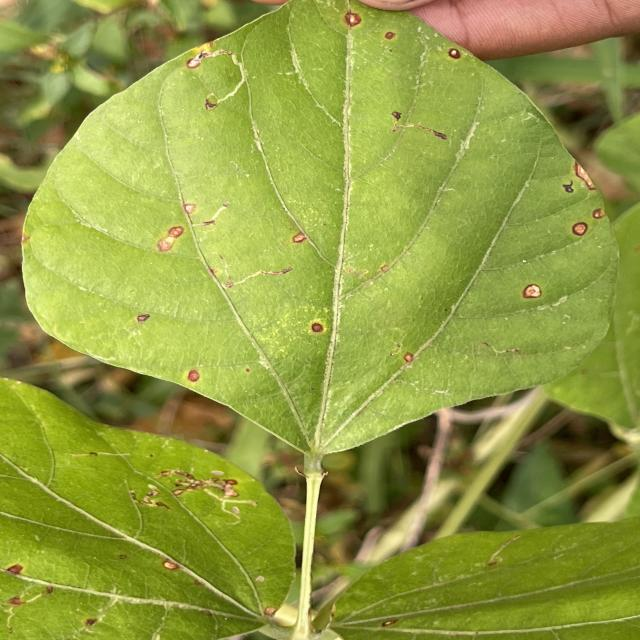Dolicos bean_cercospora leaf spot: (21, 0, 640, 451)
